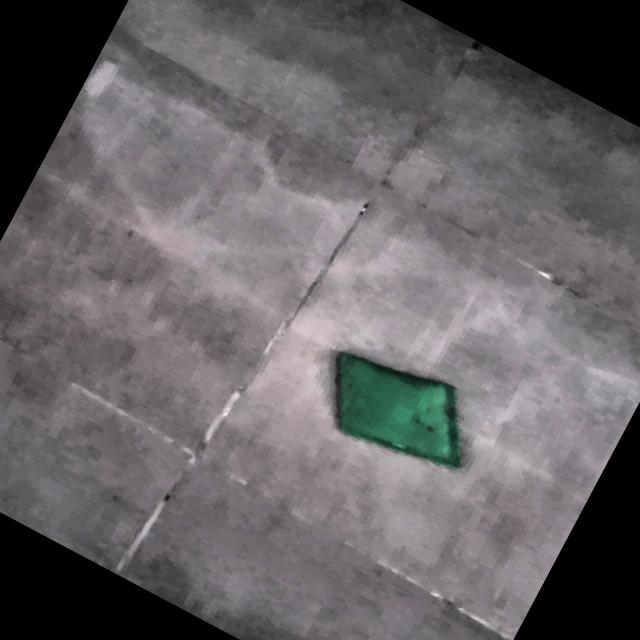payload: (336, 352, 461, 468)
